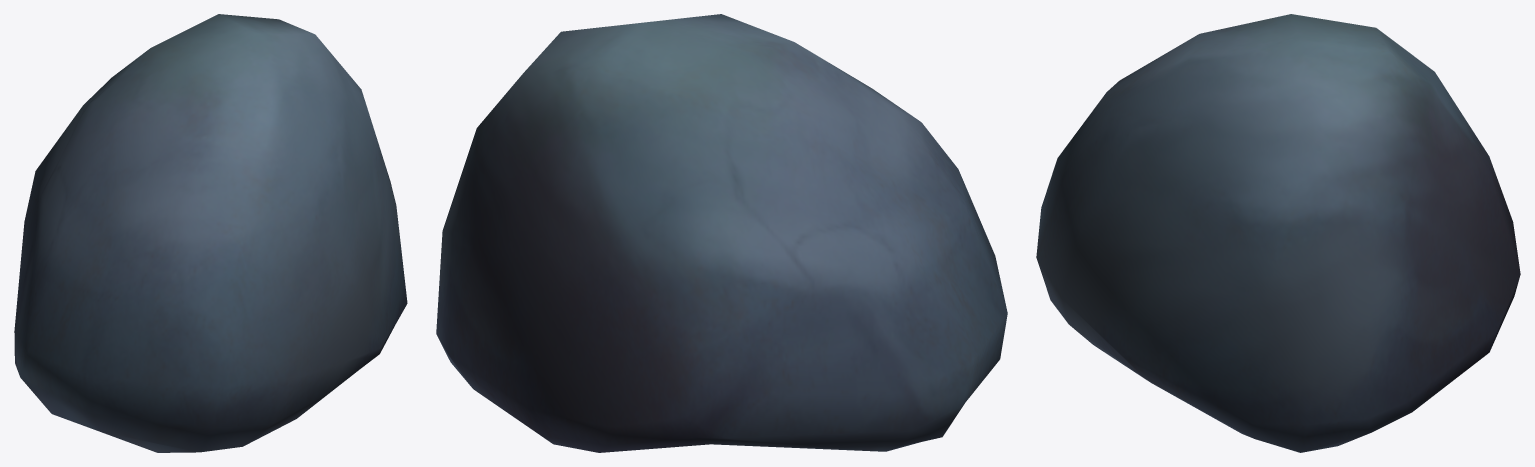
File: rock_v1.glb
3 views of the same model, side by side, from view 1: azimuth 30°, elevation 25°; view 2: azimuth 150°, elevation 25°; view 3: azimuth 270°, elevation 25° (orthographic). The views are drawn at different scales.
Visible parts, largest first — view 1: rock_lp_var1; view 2: rock_lp_var1; view 3: rock_lp_var1.
Boxes of the visible parts, box(x1,y1,x2,y2) form: rock_lp_var1: box(14, 14, 407, 452); rock_lp_var1: box(436, 14, 1007, 452); rock_lp_var1: box(1036, 14, 1520, 452).
Size of the model in its own units: 0.5058 by 0.4039 by 0.4832.
1 material, 1 textured.
